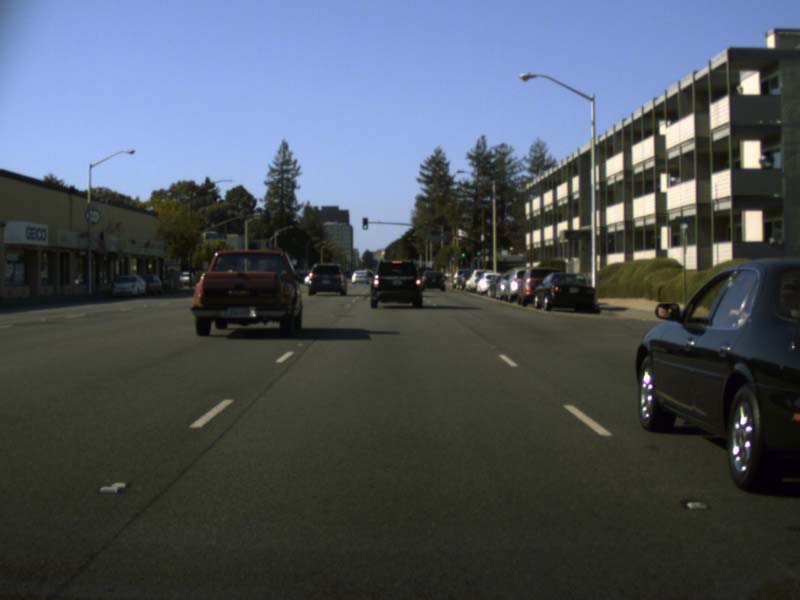Green: (460, 247, 466, 260), (362, 217, 368, 230), (475, 250, 481, 257)
